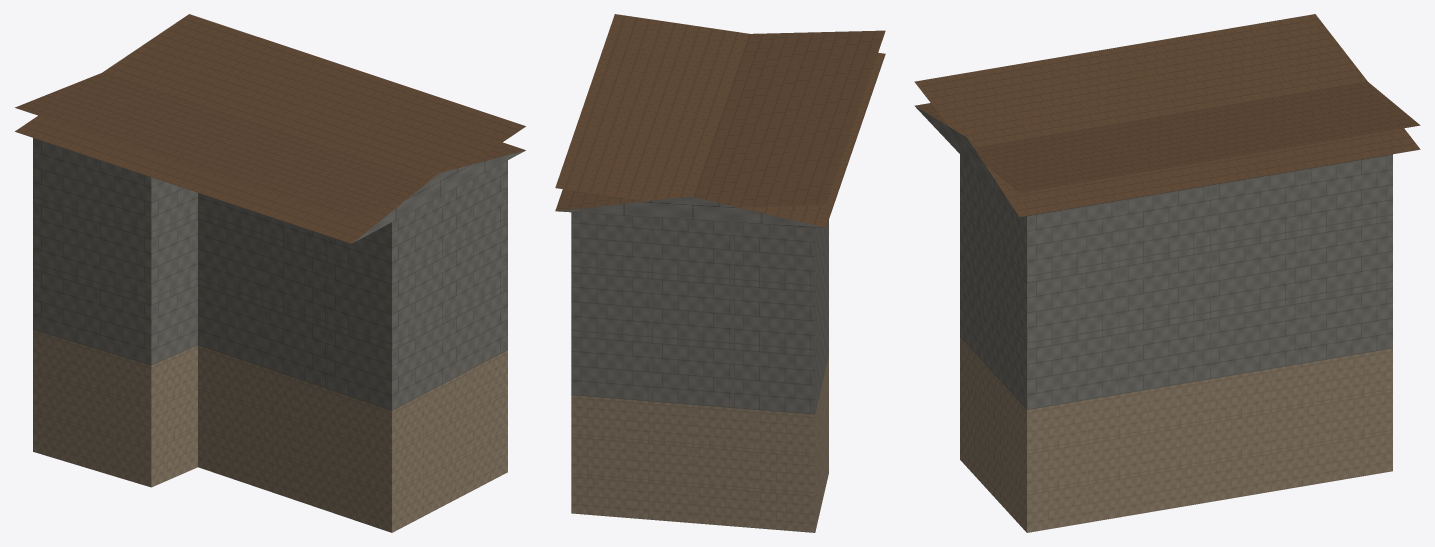
Rendered from bld_c43_34_257.gltf.
The picture shows the model from 3 angles, left to right: view 1: azimuth 30°, elevation 25°; view 2: azimuth 150°, elevation 25°; view 3: azimuth 270°, elevation 25°; orthographic projection. The views are drawn at different scales.
Parts seen in each view (by area): view 1: bld_c43_34_257; view 2: bld_c43_34_257; view 3: bld_c43_34_257.
Part boxes in pixels (box(x1,y1,x2,y2)): bld_c43_34_257: box(15, 14, 525, 532); bld_c43_34_257: box(555, 14, 885, 532); bld_c43_34_257: box(914, 14, 1420, 532).
Size of the model in its own units: 15.94 by 14.4 by 19.04.
Materials: 4 (4 with a texture image).
